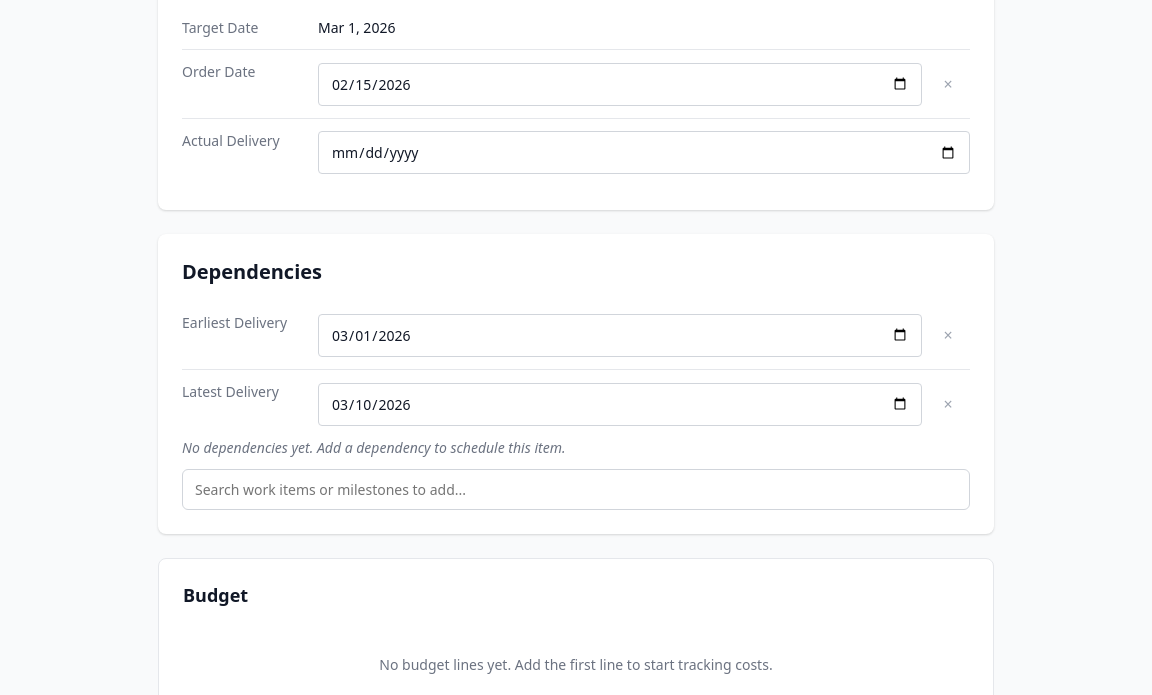
Test: HouseholdItemDetailPage — inline date editing (Story #467) › Autosave error handling › shows an inline error message when updateHouseholdItem rejects on earliest delivery blur
The width and height of the screenshot is (1152, 695).
(page scrolled)
Expected: the date field labelled "Order Date" is shown, [318,62,922,106]
In the date field labelled "Earliest Delivery": (620, 335) [318,314,922,356], type "2026-03-05"
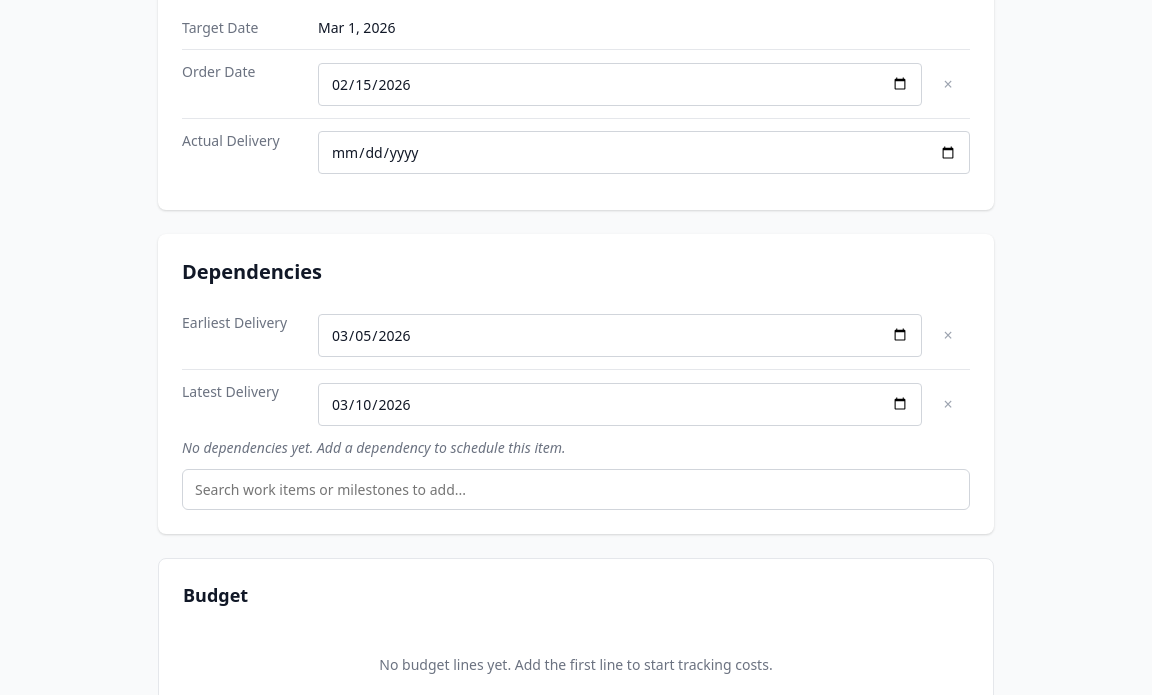
Leave the date field labelled "Earliest Delivery", box [318,314,922,356]
(page scrolled)
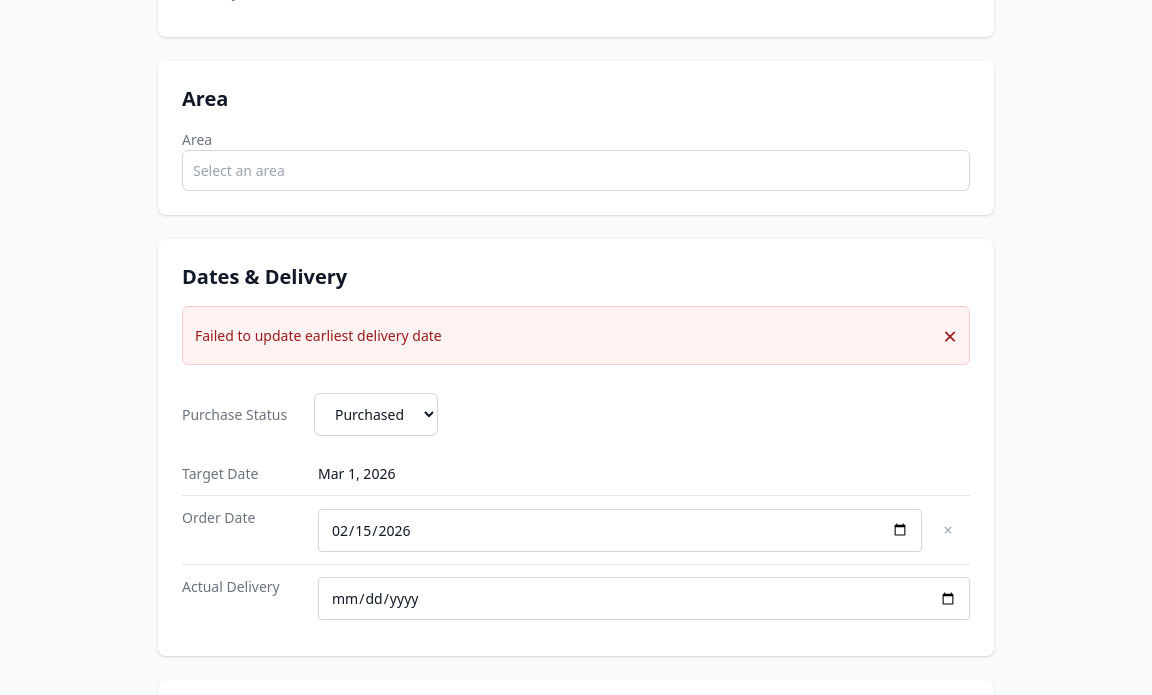
Expected: the message "Failed to update earliest delivery date ×" is shown, [182,306,970,365]
Expected: the message shows "Failed to update earliest delivery date", [195,326,442,345]
